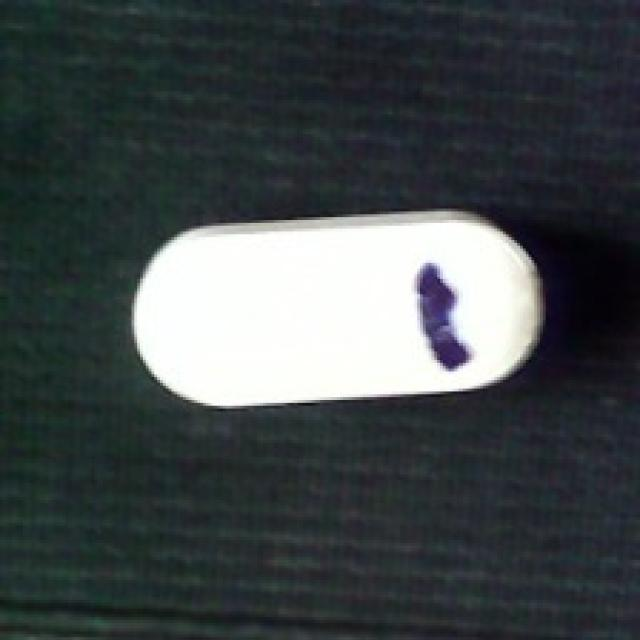defected: (129, 206, 554, 411)
